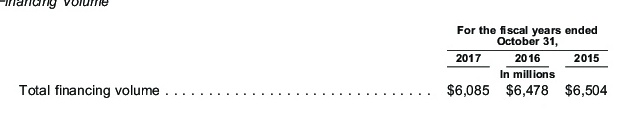table: (0, 0, 621, 114)
